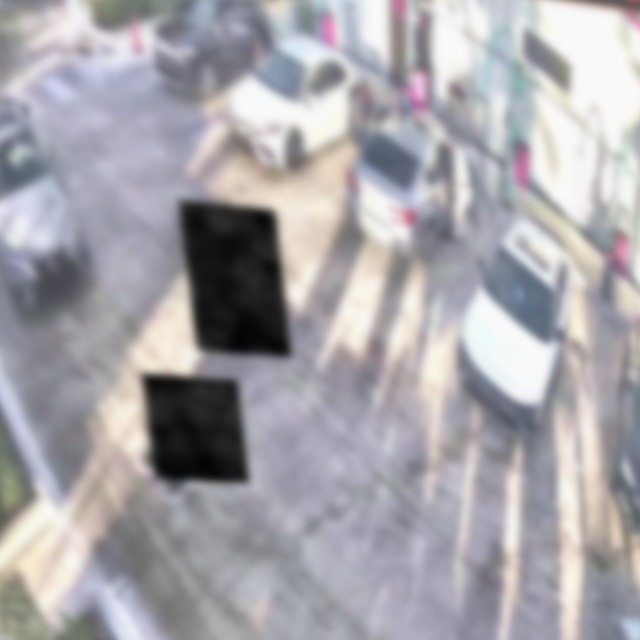Car: (444, 207, 581, 443), (339, 102, 482, 266), (219, 25, 374, 175)
